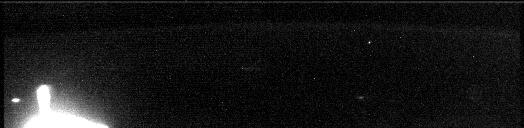positive: (34, 84, 53, 114)
